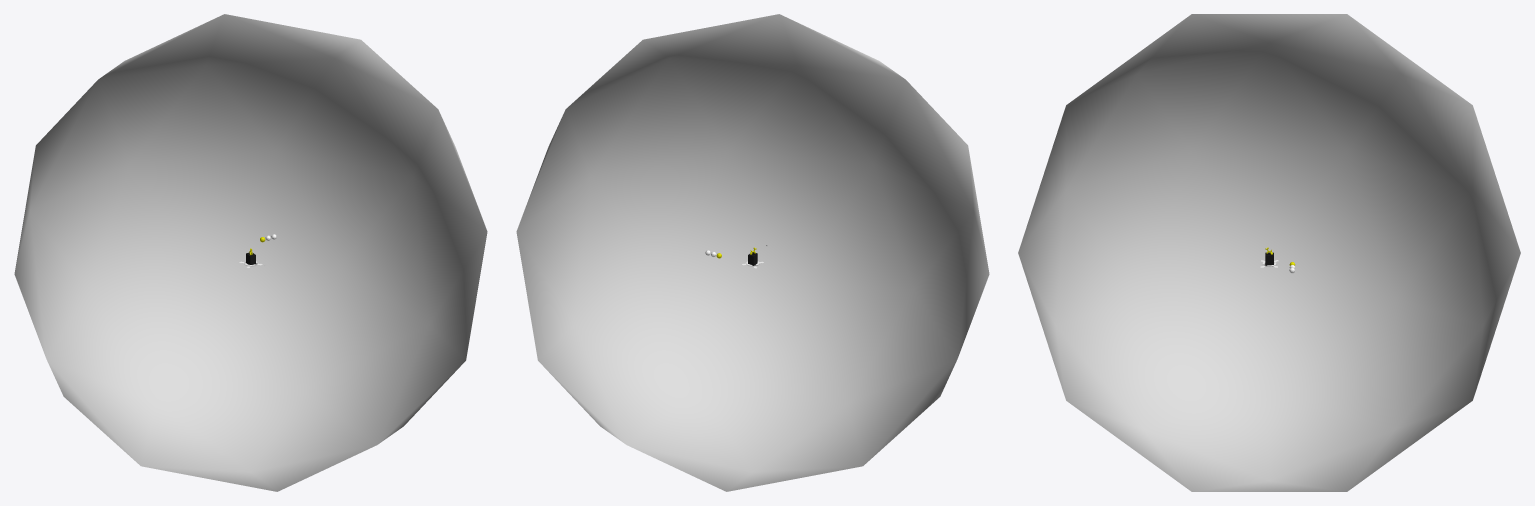
File: augmented_reality _Koons.gltf
The picture shows the model from 3 angles, left to right: view 1: azimuth 30°, elevation 25°; view 2: azimuth 150°, elevation 25°; view 3: azimuth 270°, elevation 25°; orthographic projection. The views are drawn at different scales.
Visible parts, largest first — view 1: Icosphere; view 2: Icosphere; view 3: Icosphere.
Boxes of the visible parts, x1,y1,x2,y2 form: Icosphere: (14,14,487,491); Icosphere: (516,14,989,491); Icosphere: (1018,14,1520,491).
Size of the model in its own units: 34.92 by 36.72 by 36.72.
14 materials, 4 textured.
